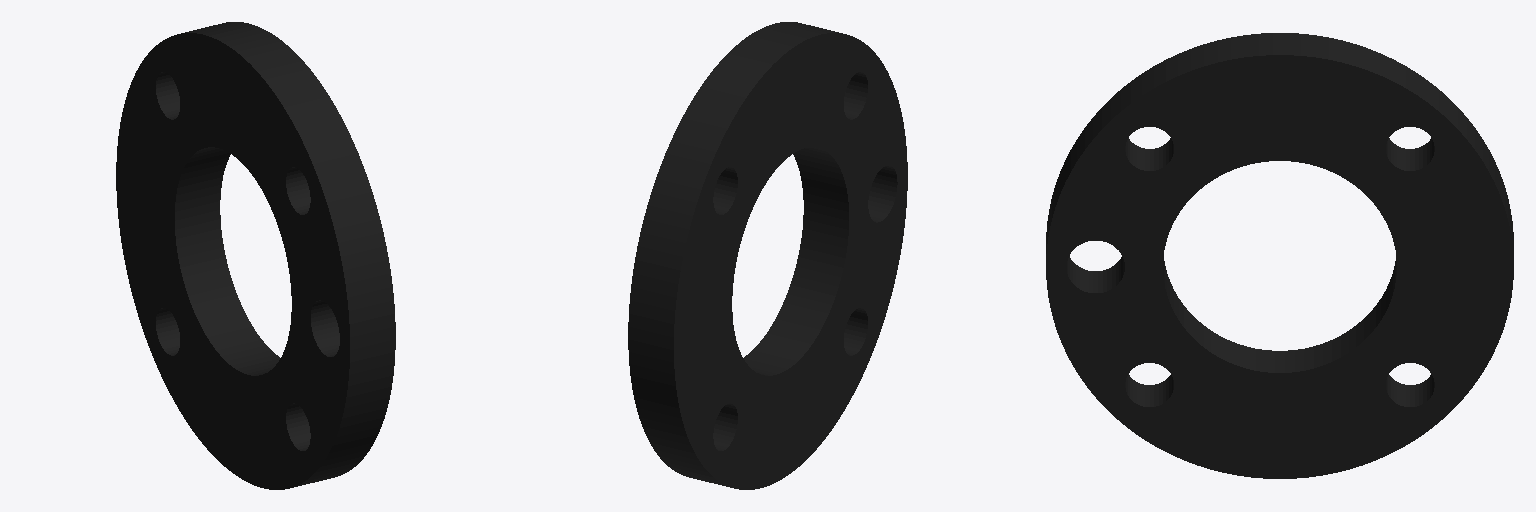
3 renders of one model, left to right at view 1: azimuth 30°, elevation 25°; view 2: azimuth 150°, elevation 25°; view 3: azimuth 270°, elevation 25°, orthographic.
Visible parts, largest first — view 1: Body1; view 2: Body1; view 3: Body1.
Boxes of the visible parts, <box> form: Body1: <box>116,22,395,489</box>; Body1: <box>628,22,907,489</box>; Body1: <box>1046,33,1513,478</box>.
Size of the model in its own units: 0.45 by 4 by 4.